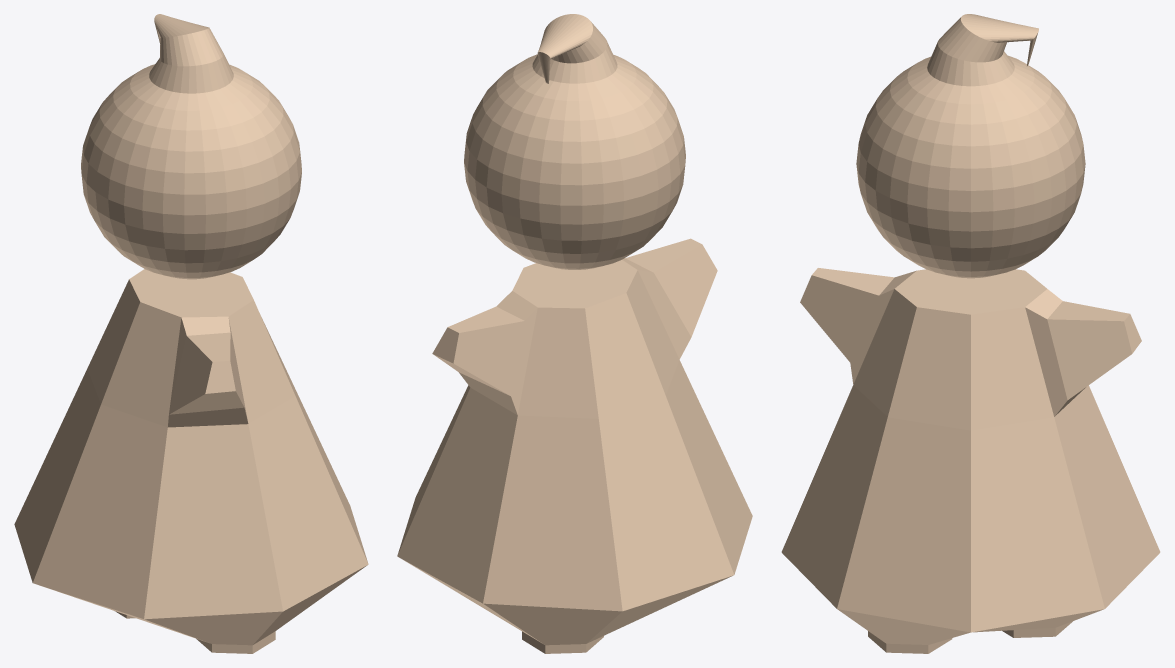
The model's file is Character.glb.
3 renders of one model, left to right at view 1: azimuth 30°, elevation 25°; view 2: azimuth 150°, elevation 25°; view 3: azimuth 270°, elevation 25°, orthographic. The views are drawn at different scales.
Visible parts, largest first — view 1: Cylinder; view 2: Cylinder; view 3: Cylinder.
Boxes of the visible parts, box(x1,y1,x2,y2) form: Cylinder: box(14, 14, 368, 653); Cylinder: box(397, 14, 752, 653); Cylinder: box(781, 14, 1160, 653).
Size of the model in its own units: 2.8 by 4.99 by 2.8.
